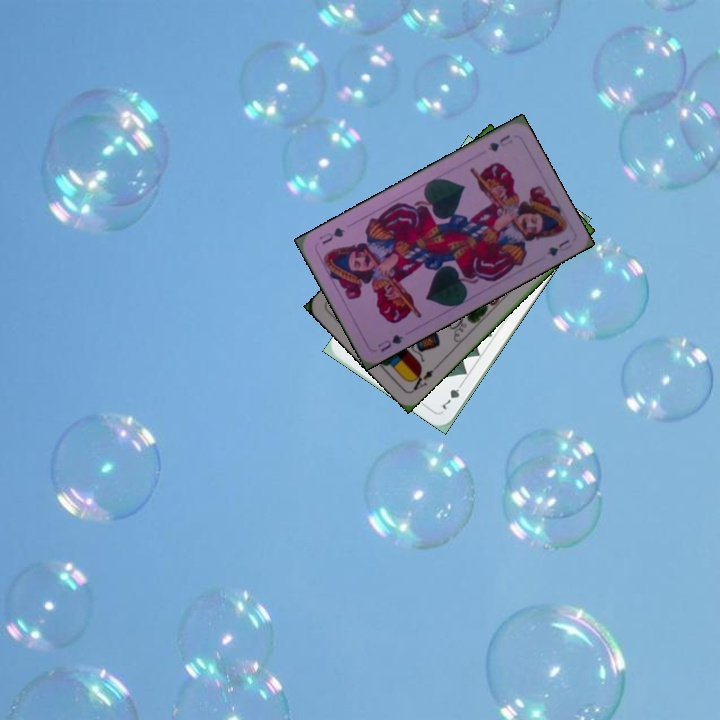EA: (406, 362, 440, 394)
G7: (438, 377, 466, 413)
GU: (374, 330, 406, 355), (483, 131, 515, 154)
